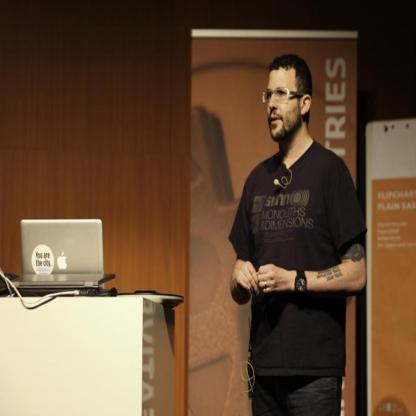board: (20, 220, 106, 288), (11, 272, 118, 298)
